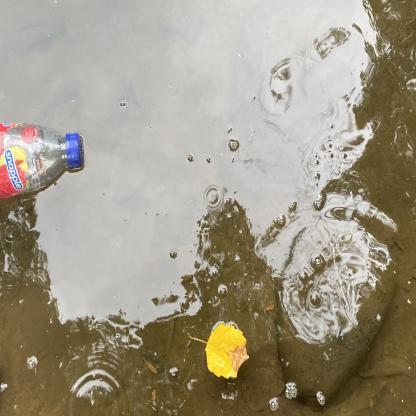trash: (0, 115, 92, 208)
